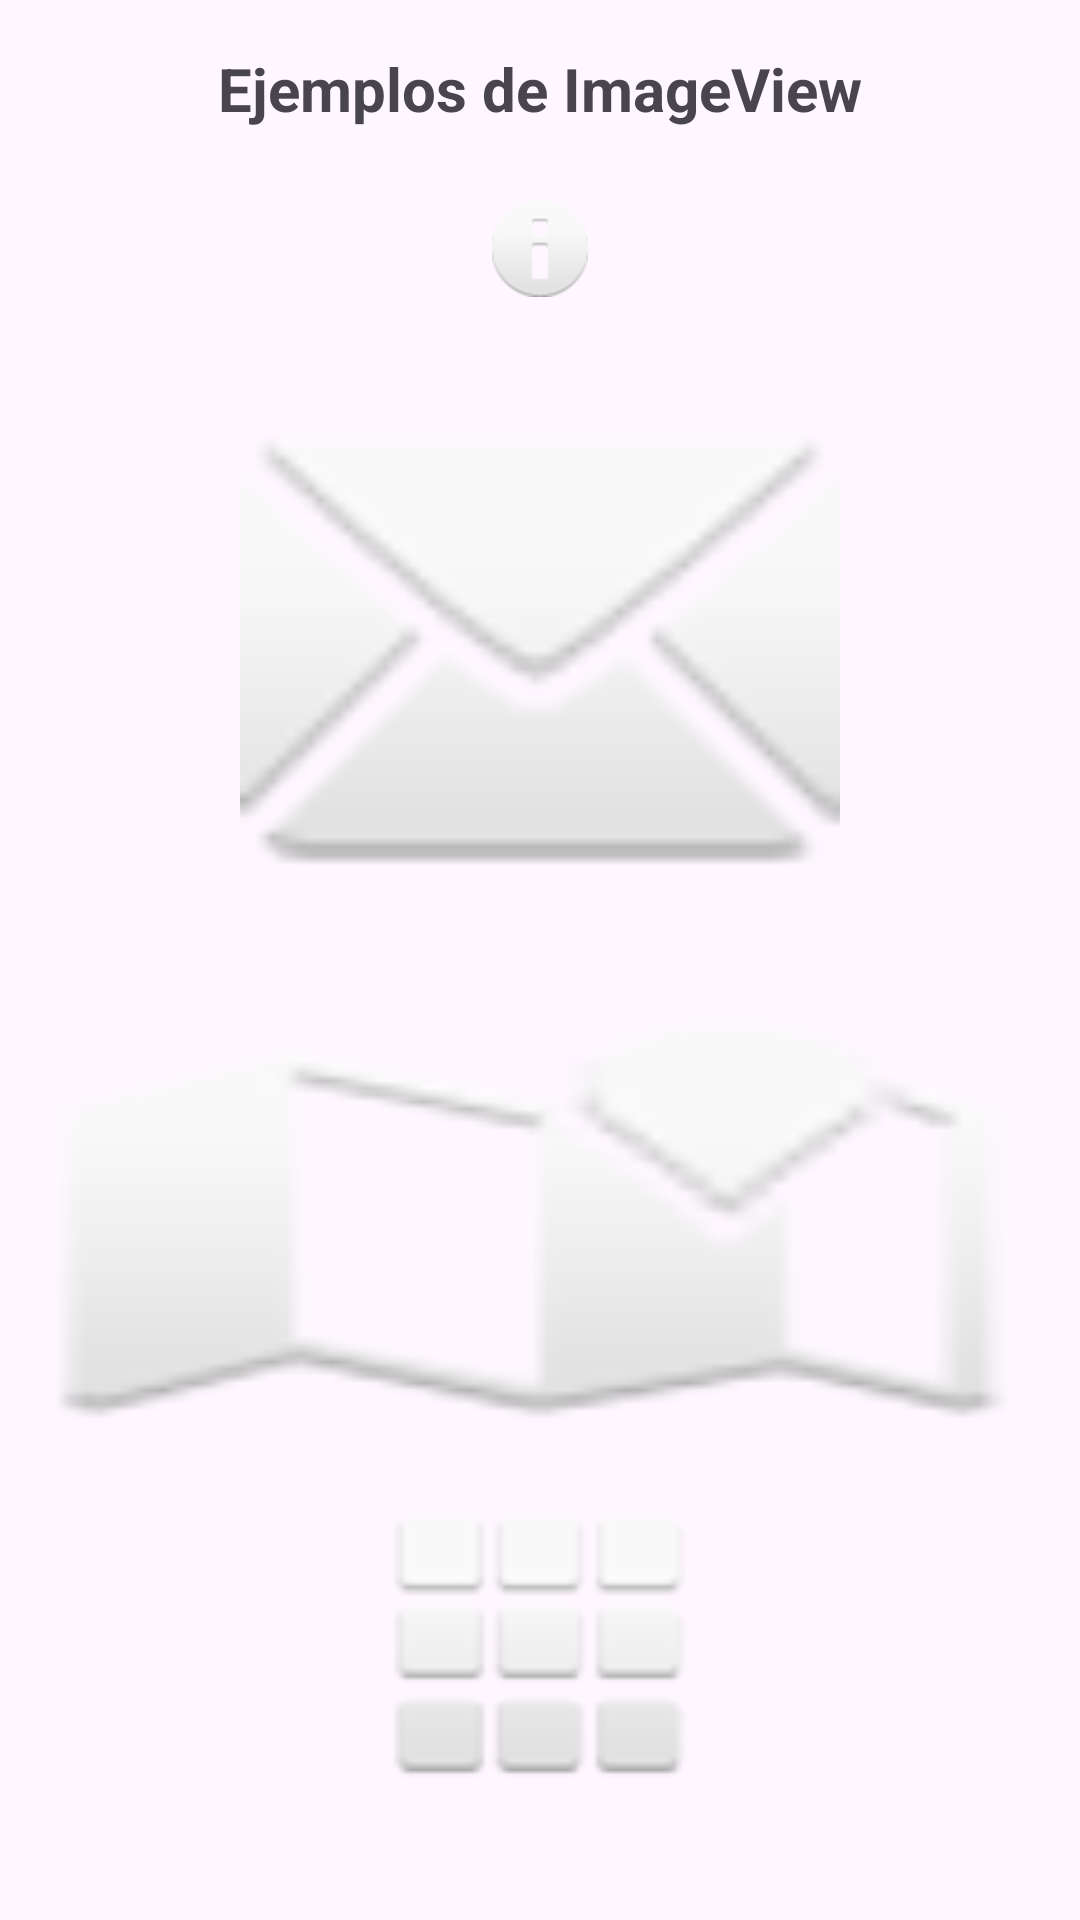

Icons on this 1080 x 1920 Android screen, each with the point to tap as (x=x, y=y):
info: (x=540, y=258)
